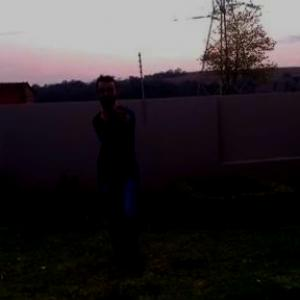takeoff-hand: (110, 97, 134, 127)
